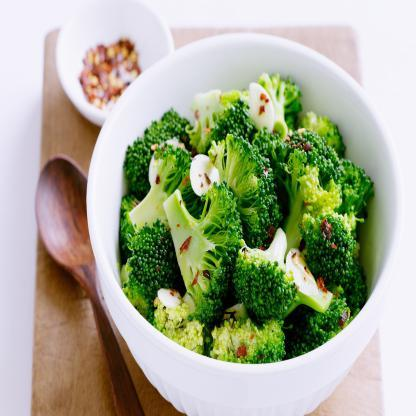broccoli: (118, 69, 375, 368)
